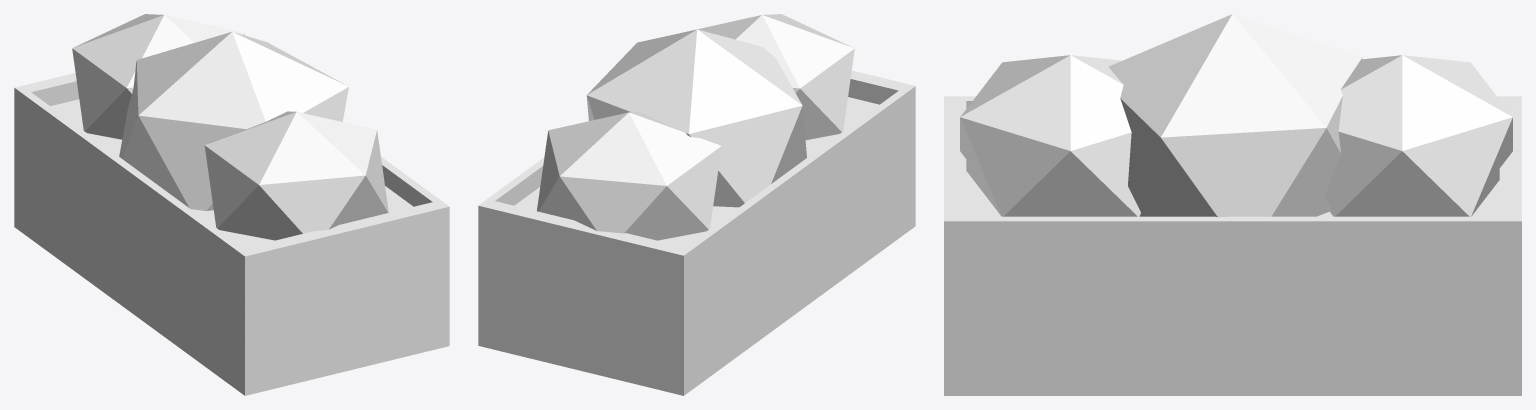
Rendered from Planters.fbx.
The picture shows the model from 3 angles, left to right: view 1: azimuth 30°, elevation 25°; view 2: azimuth 150°, elevation 25°; view 3: azimuth 270°, elevation 25°; orthographic projection. The views are drawn at different scales.
Visible parts, largest first — view 1: Cube; view 2: Cube; view 3: Cube.
Part boxes in pixels (box(x1,y1,x2,y2)): Cube: box(14, 14, 449, 395); Cube: box(478, 14, 915, 395); Cube: box(944, 14, 1521, 395).
Size of the model in its own units: 202 by 241 by 395.
